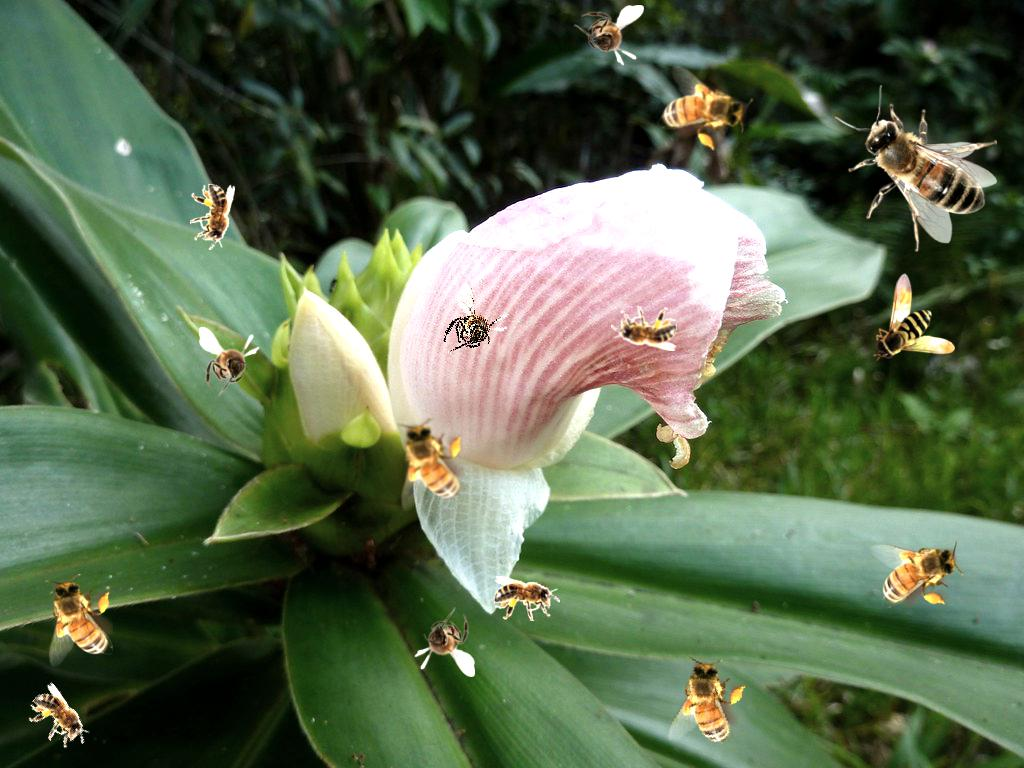Bee: (835, 85, 997, 252), (645, 59, 759, 162), (661, 650, 755, 759), (431, 281, 518, 373), (873, 273, 955, 361), (870, 540, 963, 608), (397, 418, 465, 511), (45, 574, 113, 667), (20, 680, 100, 759), (574, 5, 644, 66), (414, 607, 475, 677), (199, 327, 260, 397), (190, 184, 235, 250), (611, 306, 677, 351), (494, 576, 560, 621)
